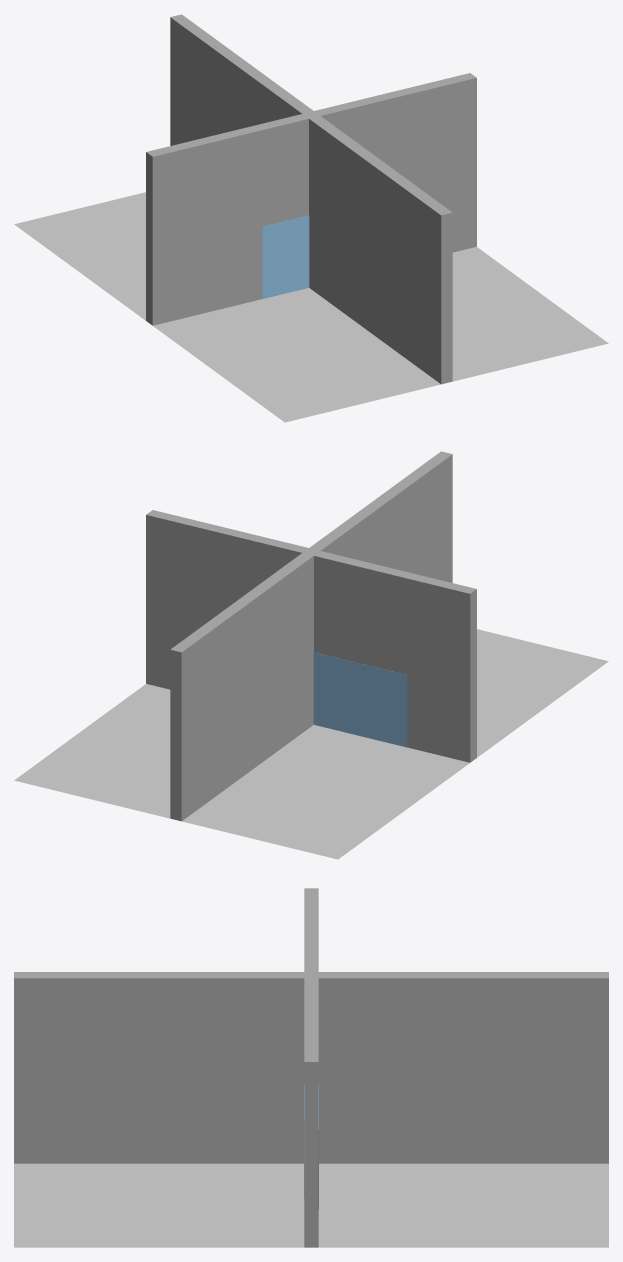
3 views of the same model, one above another, from view 1: azimuth 30°, elevation 25°; view 2: azimuth 150°, elevation 25°; view 3: azimuth 270°, elevation 25° (orthographic). The views are drawn at different scales.
Parts seen in each view (by area): view 1: wall, FloorPlan, Window; view 2: wall, FloorPlan, Window; view 3: wall, FloorPlan.
Boxes of the visible parts, bbox=[...] form: wall: bbox=[146, 14, 476, 384]; FloorPlan: bbox=[14, 192, 608, 422]; Window: bbox=[262, 215, 309, 298]; wall: bbox=[146, 451, 476, 821]; FloorPlan: bbox=[14, 629, 608, 859]; Window: bbox=[313, 652, 407, 747]; wall: bbox=[14, 888, 608, 1247]; FloorPlan: bbox=[14, 1163, 608, 1247].
Bounding box in the file's own units: 5.62 × 2.8 × 8.14.
